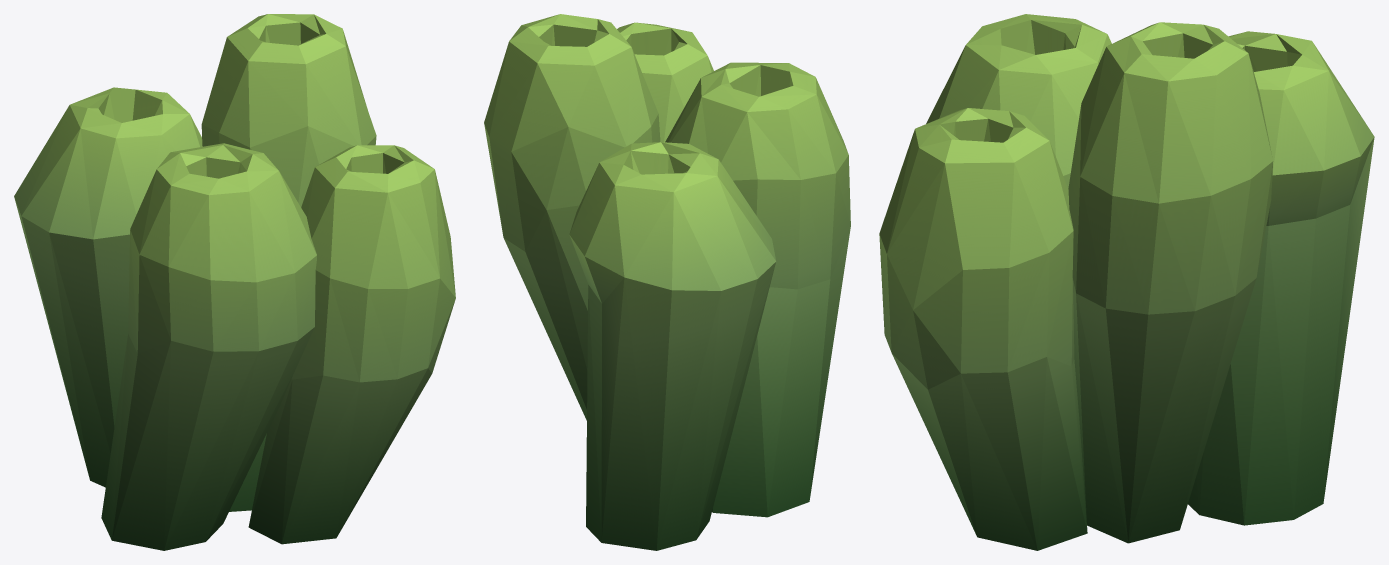
The model's file is SM_Spongia_9.fbx.
3 views of the same model, side by side, from view 1: azimuth 30°, elevation 25°; view 2: azimuth 150°, elevation 25°; view 3: azimuth 270°, elevation 25° (orthographic). The views are drawn at different scales.
Visible parts, largest first — view 1: Spongia_9; view 2: Spongia_9; view 3: Spongia_9.
Boxes of the visible parts, x1=… form: Spongia_9: x1=14, y1=14, x2=455, y2=550; Spongia_9: x1=484, y1=14, x2=850, y2=550; Spongia_9: x1=879, y1=14, x2=1374, y2=550.
Bounding box in the file's own units: 74.19 × 103 × 89.54.
